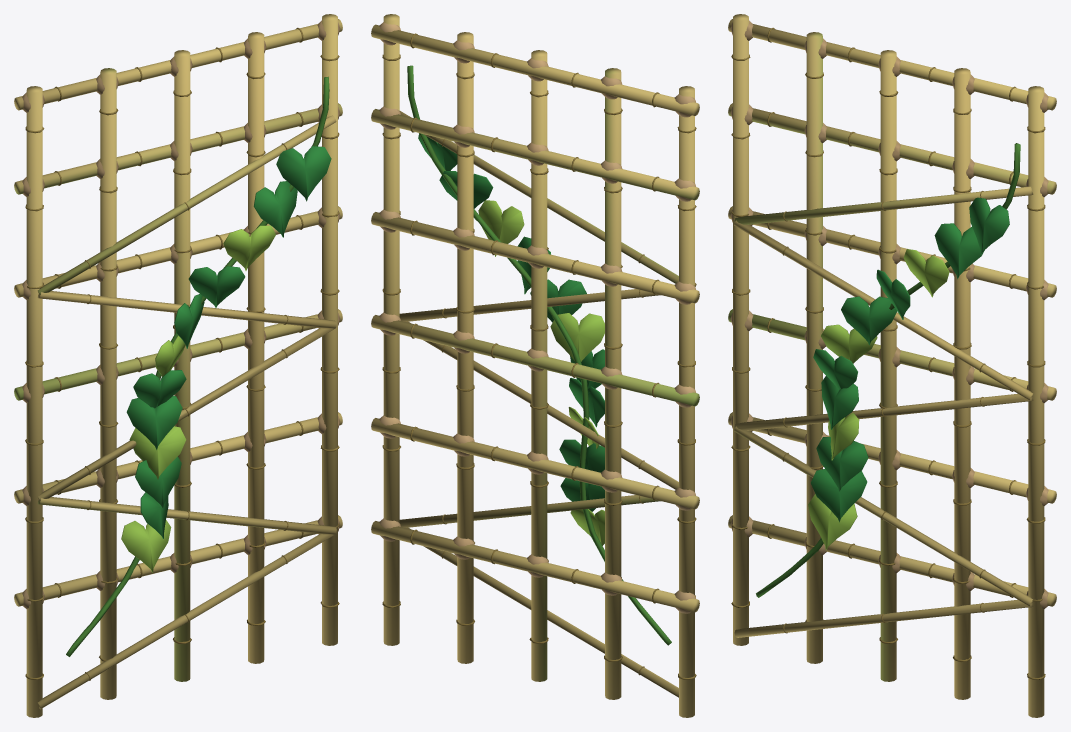
The model's file is canopy_trellis.glb.
3 views of the same model, side by side, from view 1: azimuth 30°, elevation 25°; view 2: azimuth 150°, elevation 25°; view 3: azimuth 330°, elevation 25° (orthographic).
Parts seen in each view (by area): view 1: canopy_trellis; view 2: canopy_trellis; view 3: canopy_trellis.
Boxes of the visible parts, left/top/right/bottom form: canopy_trellis: left=14, top=14, right=342, bottom=717; canopy_trellis: left=371, top=14, right=699, bottom=717; canopy_trellis: left=728, top=14, right=1056, bottom=717.
Bounding box in the file's own units: 14.4 × 26.7 × 2.26.
